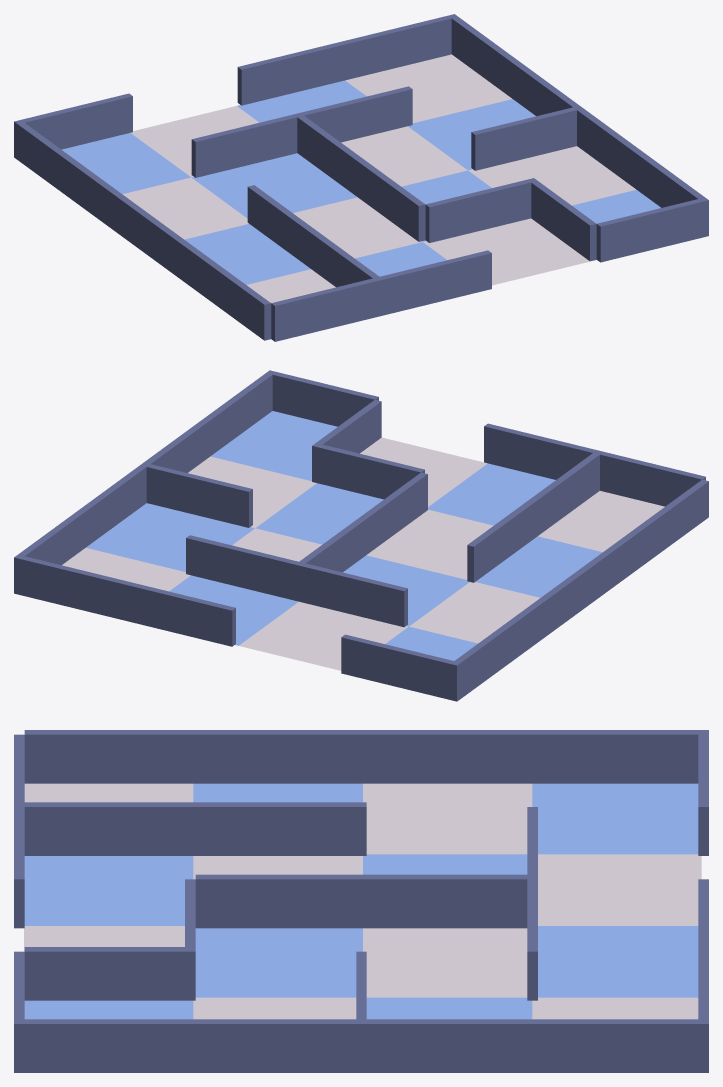
The model's file is maze(4x4).fbx.
3 renders of one model, top to bottom at view 1: azimuth 30°, elevation 25°; view 2: azimuth 150°, elevation 25°; view 3: azimuth 270°, elevation 25°, orthographic. The views are drawn at different scales.
Visible parts, largest first — view 1: Curve.001, Plane.001; view 2: Curve.001, Plane.001; view 3: Curve.001, Plane.001.
Boxes of the visible parts, left/top/right/bottom form: Curve.001: left=14, top=14, right=708, bottom=341; Plane.001: left=62, top=54, right=660, bottom=339; Curve.001: left=14, top=370, right=708, bottom=701; Plane.001: left=62, top=411, right=664, bottom=670; Curve.001: left=14, top=730, right=708, bottom=1072; Plane.001: left=24, top=783, right=701, bottom=1019.
Bounding box in the file's own units: 20.54 × 1.61 × 20.54.
